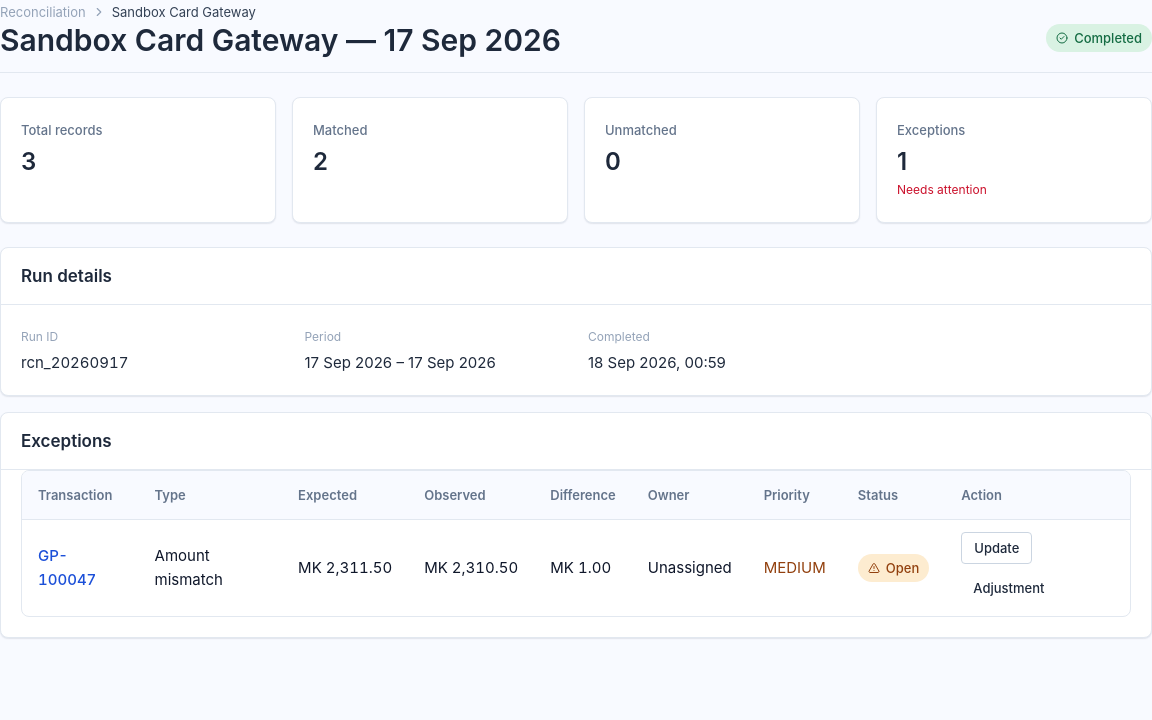
Test: ReconciliationRunDetail › shows a safe error and does not silently apply the change on a failed update
Click the button "Update". click: (997, 548)
box: x1=961 y1=532 x2=1032 y2=564
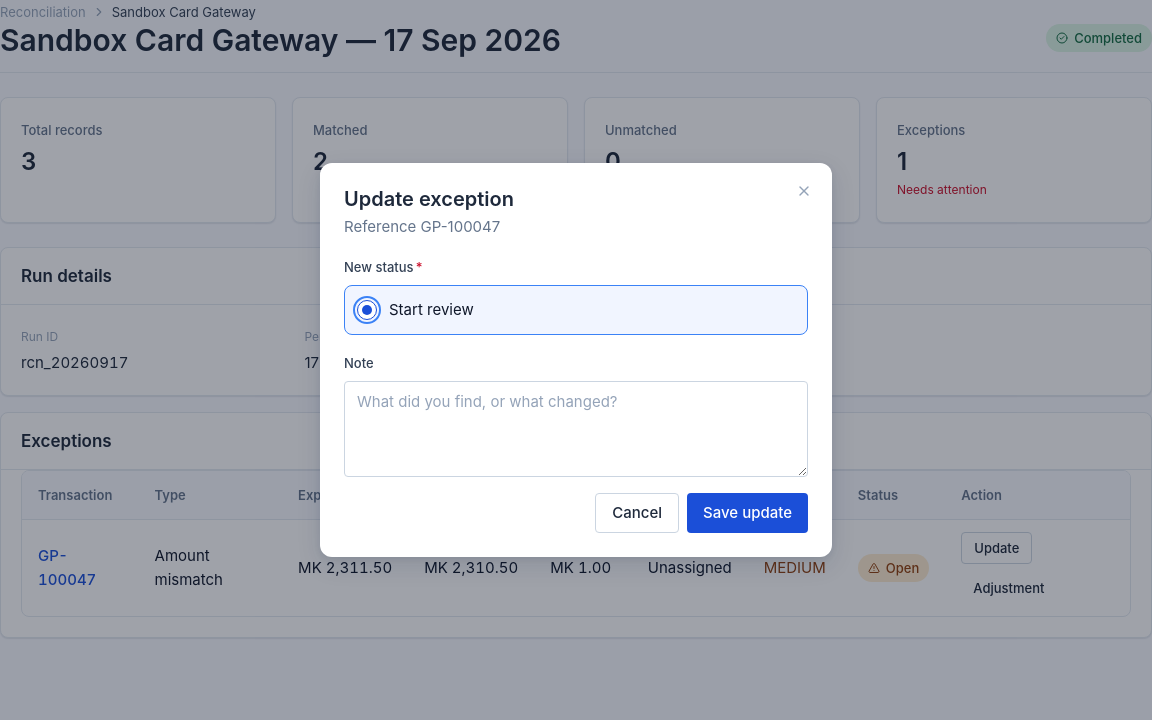
Now the heading "Update exception" is shown, box x1=344 y1=187 x2=514 y2=211
Type "Trying to update." into the text box with placeholder "What did you find, or what changed?". click: (576, 429)
box: x1=344 y1=381 x2=808 y2=477
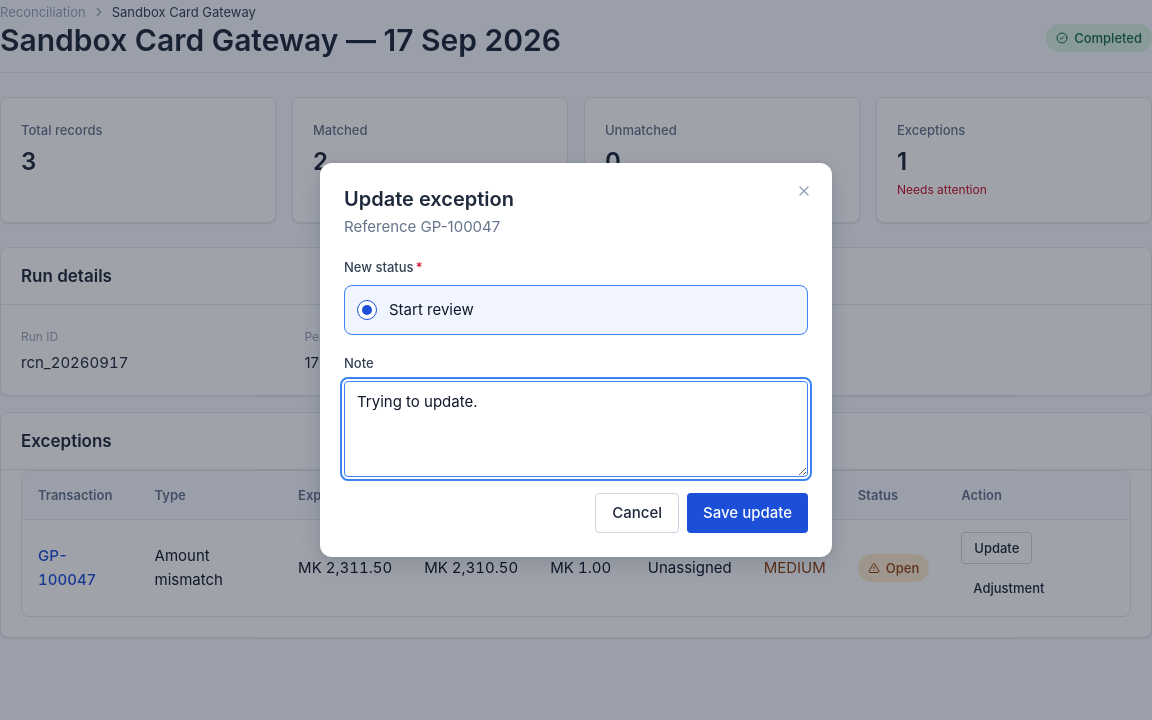
Click the button "Save update". click: (748, 513)
box: x1=687 y1=493 x2=808 y2=533
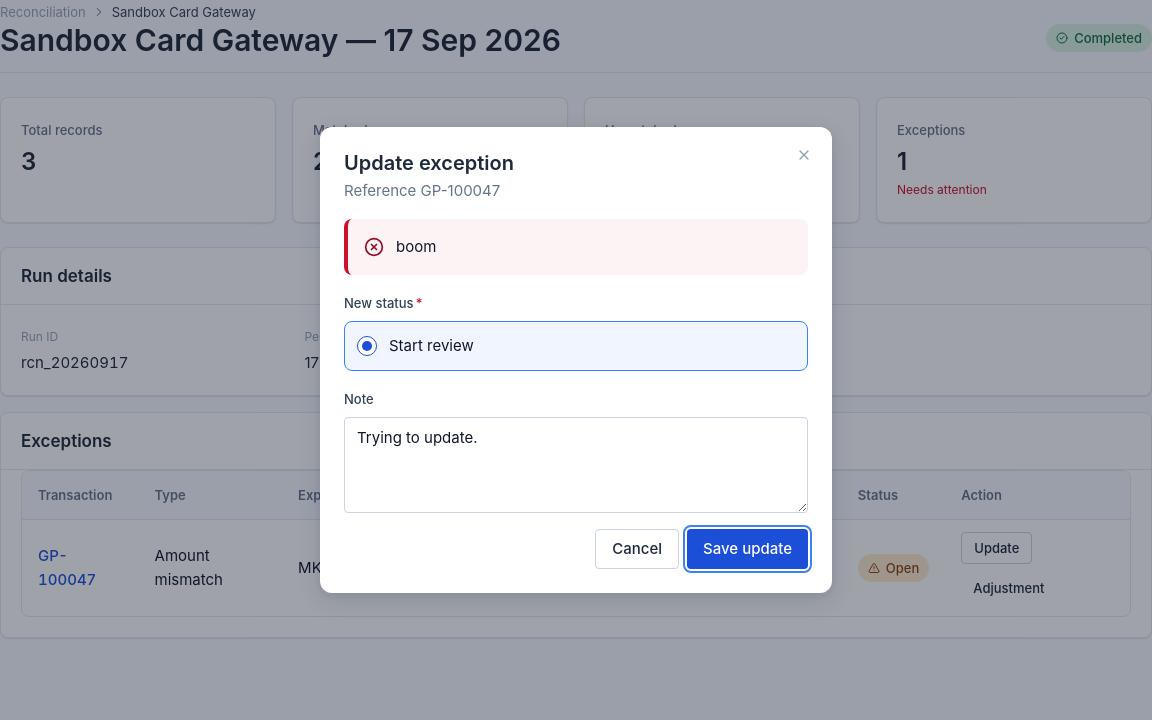
Now the heading "Update exception" is shown, box x1=344 y1=151 x2=514 y2=175
Now the text "boom" is shown, box x1=396 y1=235 x2=436 y2=259
